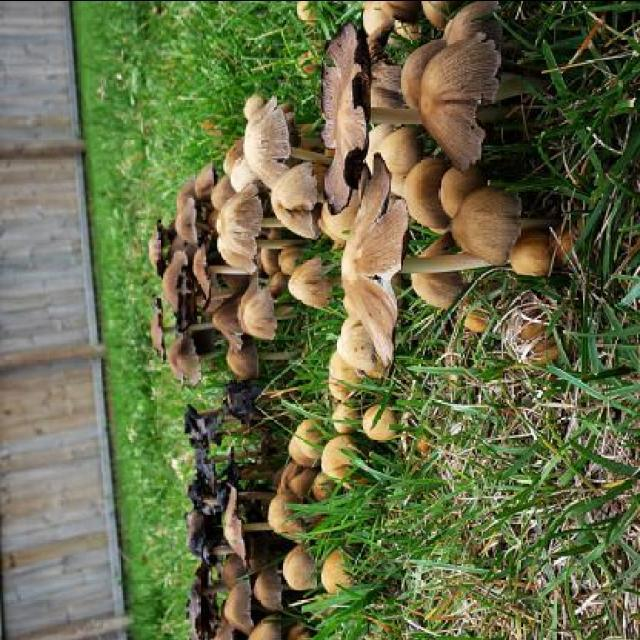Mushroom: (147, 2, 583, 640), (402, 15, 530, 172)
